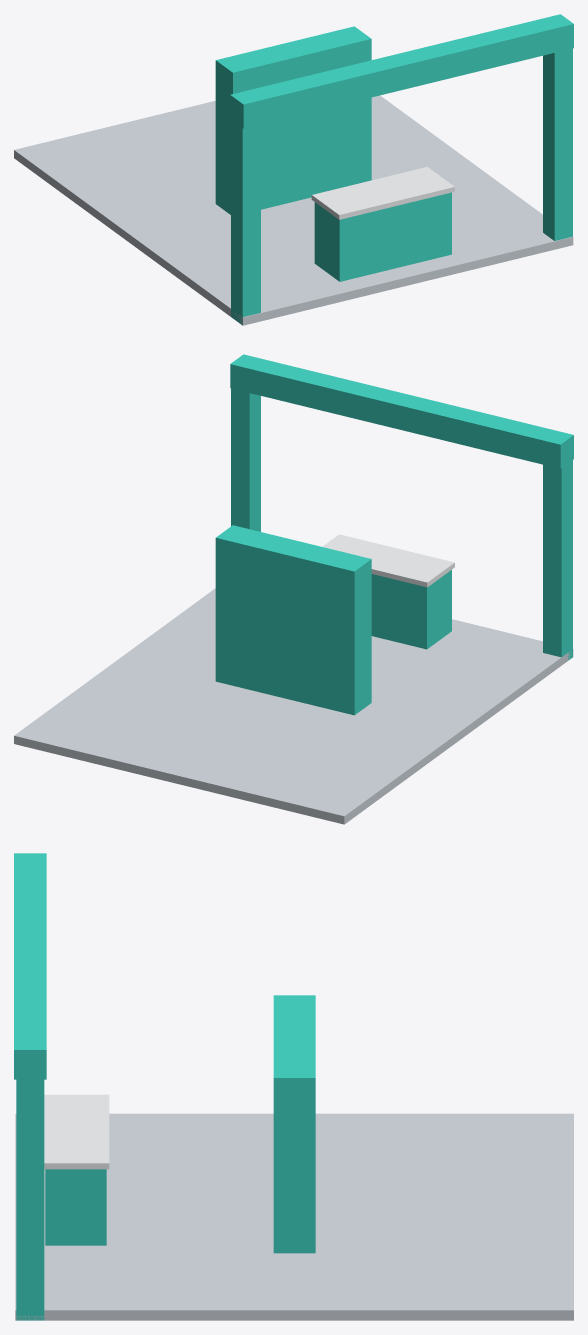
3 renders of one model, top to bottom at view 1: azimuth 30°, elevation 25°; view 2: azimuth 150°, elevation 25°; view 3: azimuth 270°, elevation 25°, orthographic. The views are drawn at different scales.
Parts seen in each view (by area): view 1: Exhibition Booth Concept; view 2: Exhibition Booth Concept; view 3: Exhibition Booth Concept.
Boxes of the visible parts, box(x1,y1,x2,y2) form: Exhibition Booth Concept: box(14, 14, 573, 325); Exhibition Booth Concept: box(14, 354, 573, 824); Exhibition Booth Concept: box(14, 853, 573, 1320).
Bounding box in the file's own units: 5 × 3.2 × 6.02.
